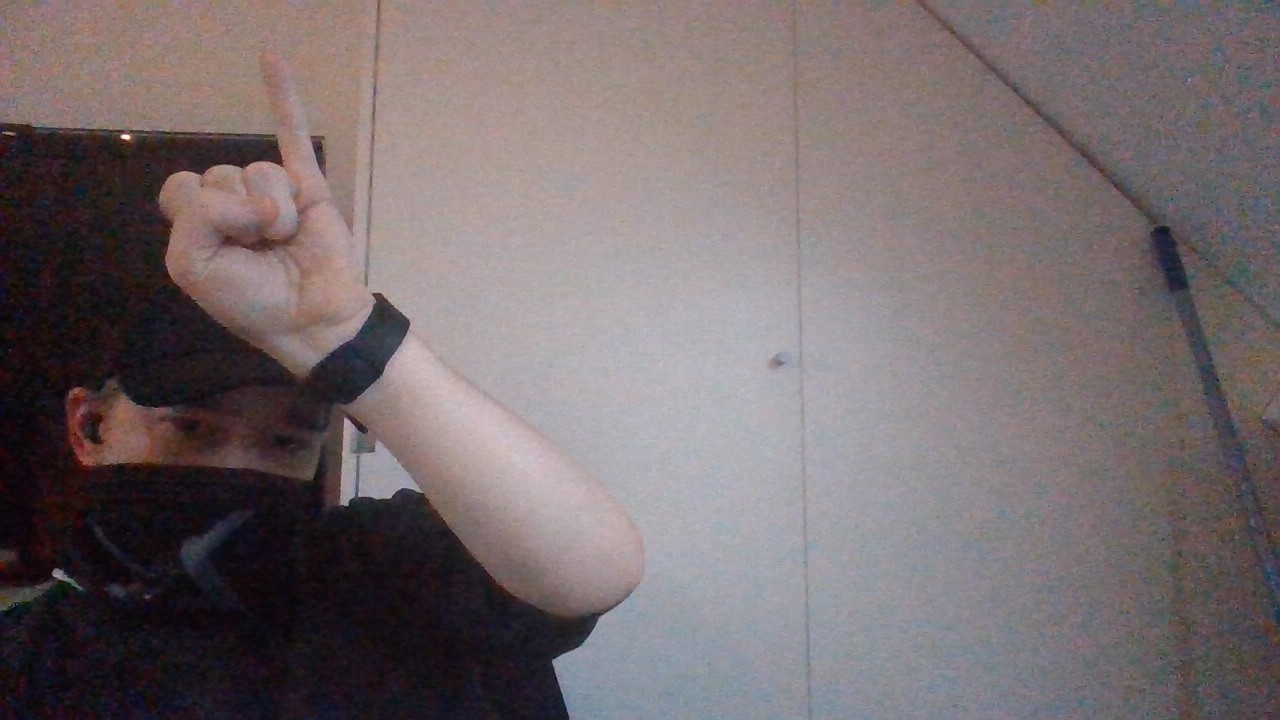I" Sign language: (147, 48, 383, 340)
